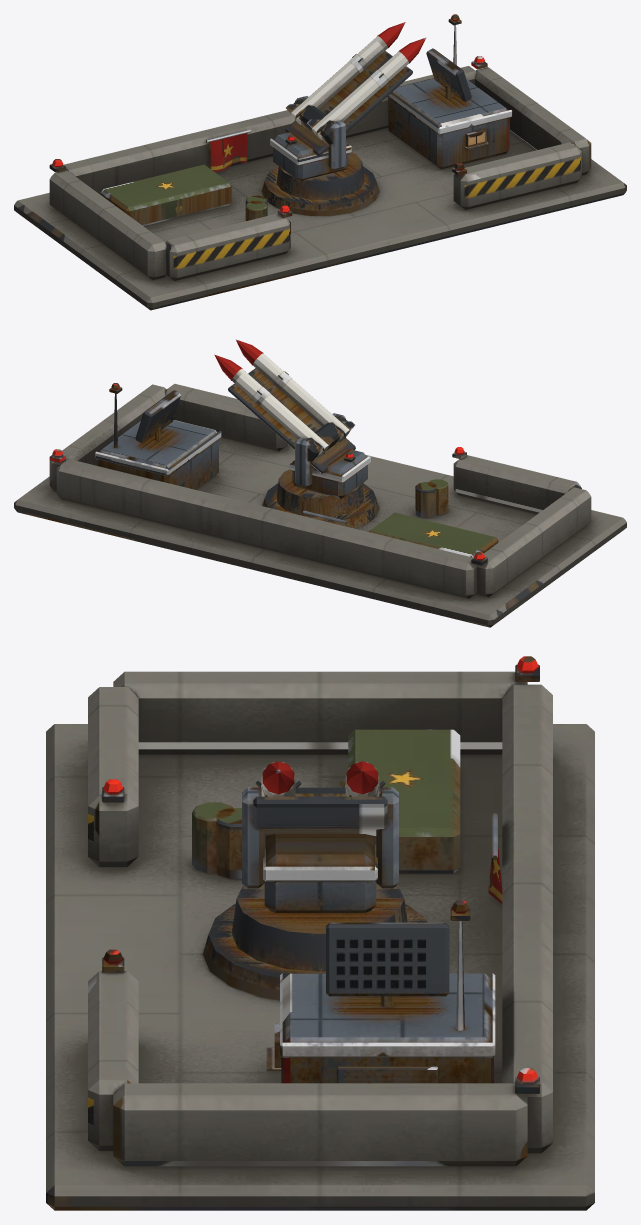
File: sam.soviet.glb
3 views of the same model, one above another, from view 1: azimuth 30°, elevation 25°; view 2: azimuth 150°, elevation 25°; view 3: azimuth 270°, elevation 25° (orthographic). The views are drawn at different scales.
Parts seen in each view (by area): view 1: root_mesh, turret_mesh, elev_mesh, ms0_mesh, ms1_mesh, radar_mesh; view 2: root_mesh, turret_mesh, elev_mesh, ms1_mesh, ms0_mesh, radar_mesh; view 3: root_mesh, turret_mesh, radar_mesh, elev_mesh, ms0_mesh, ms1_mesh.
Part boxes in pixels (<box>): root_mesh: <box>14,14,626,310</box>; turret_mesh: <box>270,96,364,199</box>; elev_mesh: <box>285,51,412,155</box>; ms0_mesh: <box>286,22,405,128</box>; ms1_mesh: <box>306,37,426,143</box>; radar_mesh: <box>426,48,471,101</box>; root_mesh: <box>14,383,626,627</box>; turret_mesh: <box>276,413,370,517</box>; elev_mesh: <box>228,368,355,473</box>; ms1_mesh: <box>235,339,354,445</box>; ms0_mesh: <box>214,354,334,460</box>; radar_mesh: <box>135,390,180,443</box>; root_mesh: <box>46,656,594,1210</box>; turret_mesh: <box>231,787,407,971</box>; radar_mesh: <box>326,922,449,1007</box>; elev_mesh: <box>251,787,389,835</box>; ms0_mesh: <box>339,761,385,796</box>; ms1_mesh: <box>255,761,301,796</box>.
Size of the model in its own units: 1.98 by 0.5959 by 0.98.
1 material, 1 textured.
